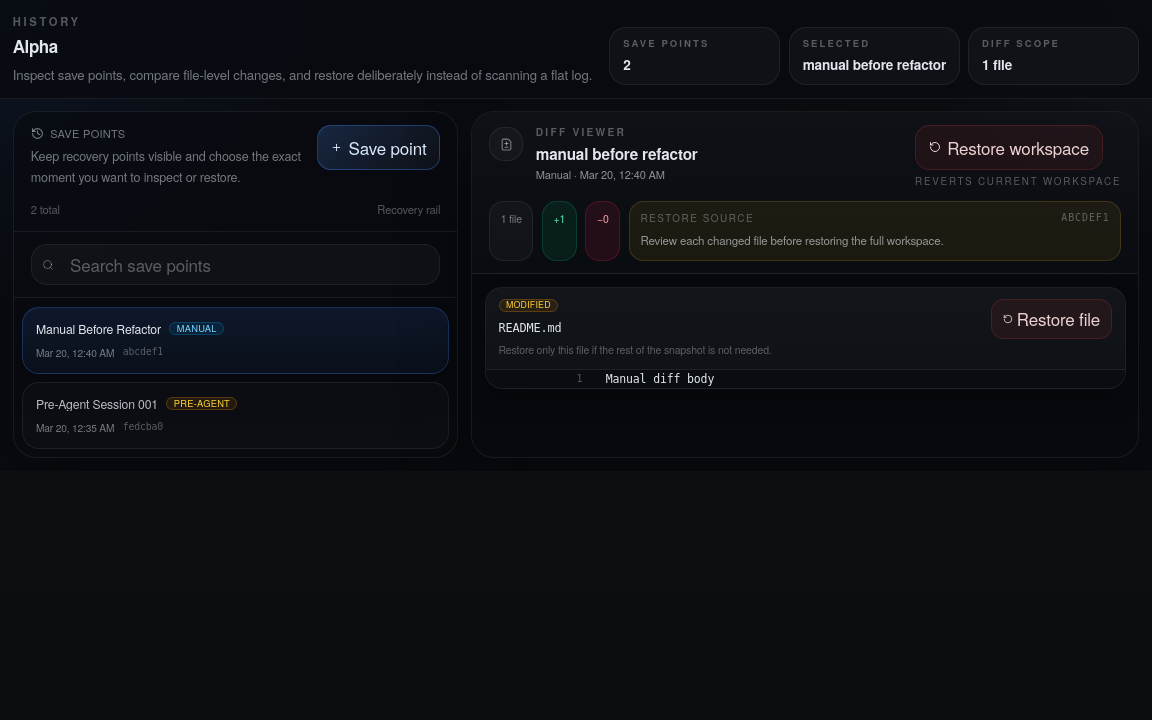
Test: HistoryTab › creates manual save points and gates workspace and file restore behind confirmations
This screenshot has width=1152, height=720.
Expected: the text "Manual diff body" is shown, [593,370,1124,388]
Step 1. Click the button with aria-label "Create manual save point" → (379, 147), box [317,125,440,170]
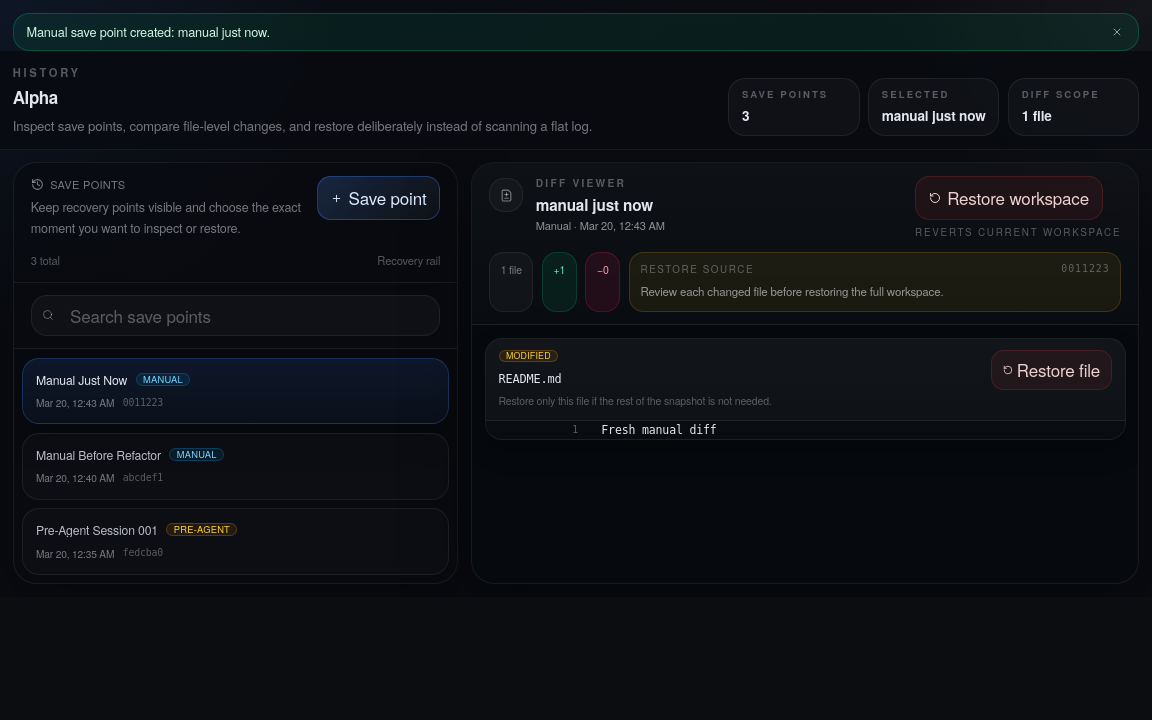
Expected: the text "Manual save point created: manual just now." is shown, [26,22,270,41]
Expected: the text "Fresh manual diff" is shown, [589,420,1124,439]
Step 2. Click the button "Restore workspace" → (1009, 198), box [915,176,1103,220]
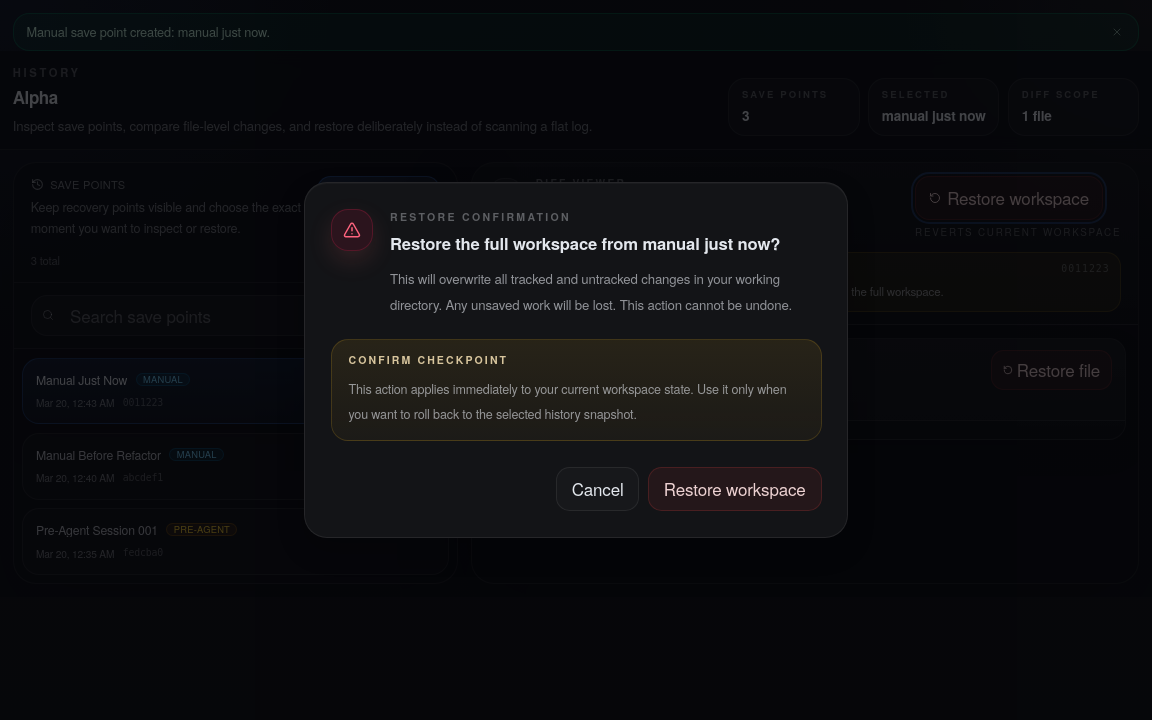
Step 3. Click the button "Restore workspace" → (735, 489), box [648,467,822,512]
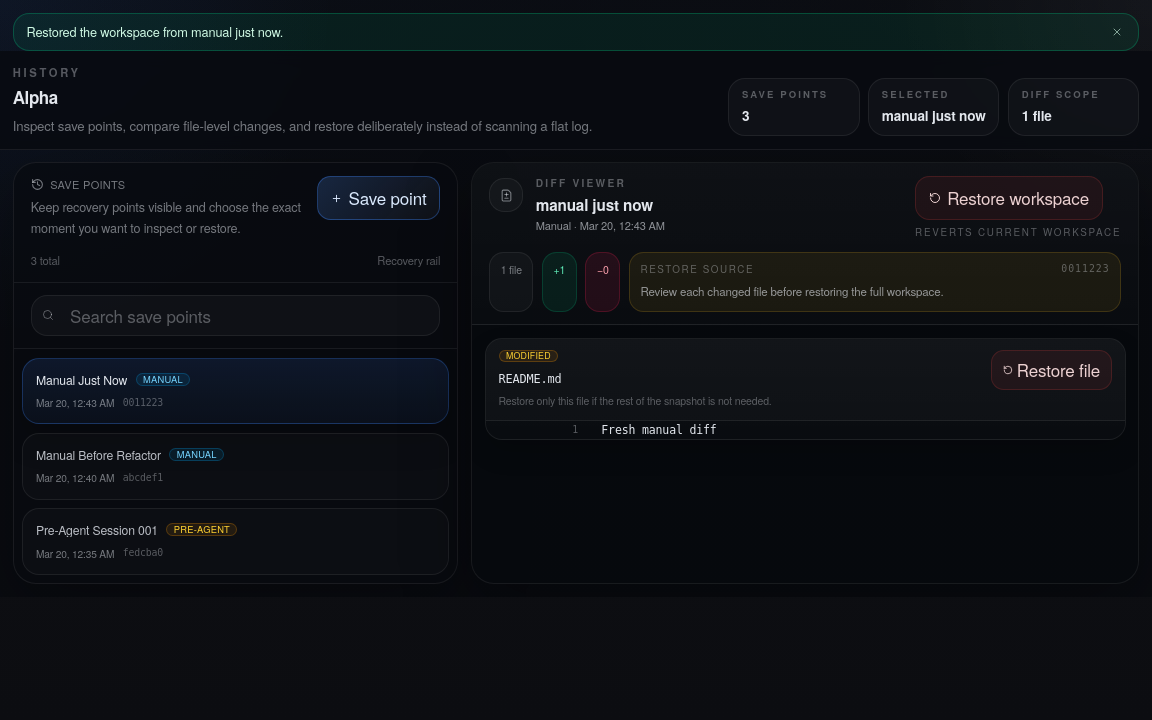
Expected: the text "Restored the workspace from manual just now." is shown, [26,22,283,41]
Step 4. Click the button "Restore file" → (1051, 370), box [991,350,1112,390]
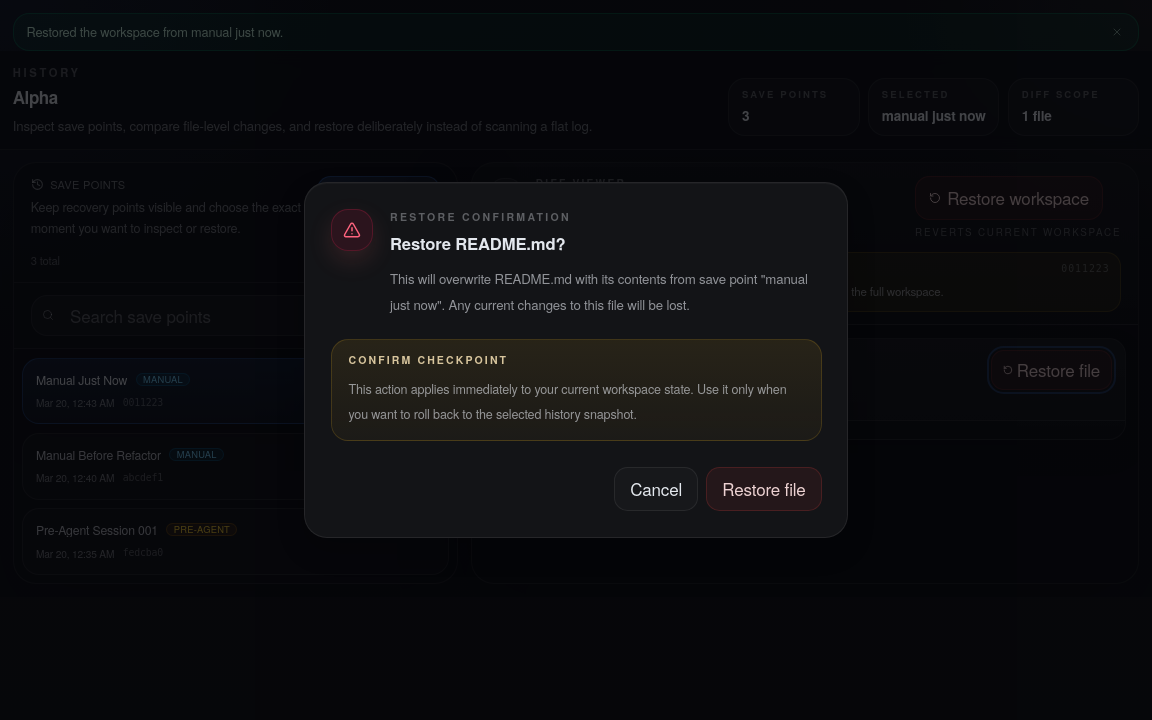
Step 5. Click the button "Restore file" → (764, 489), box [706,467,822,512]
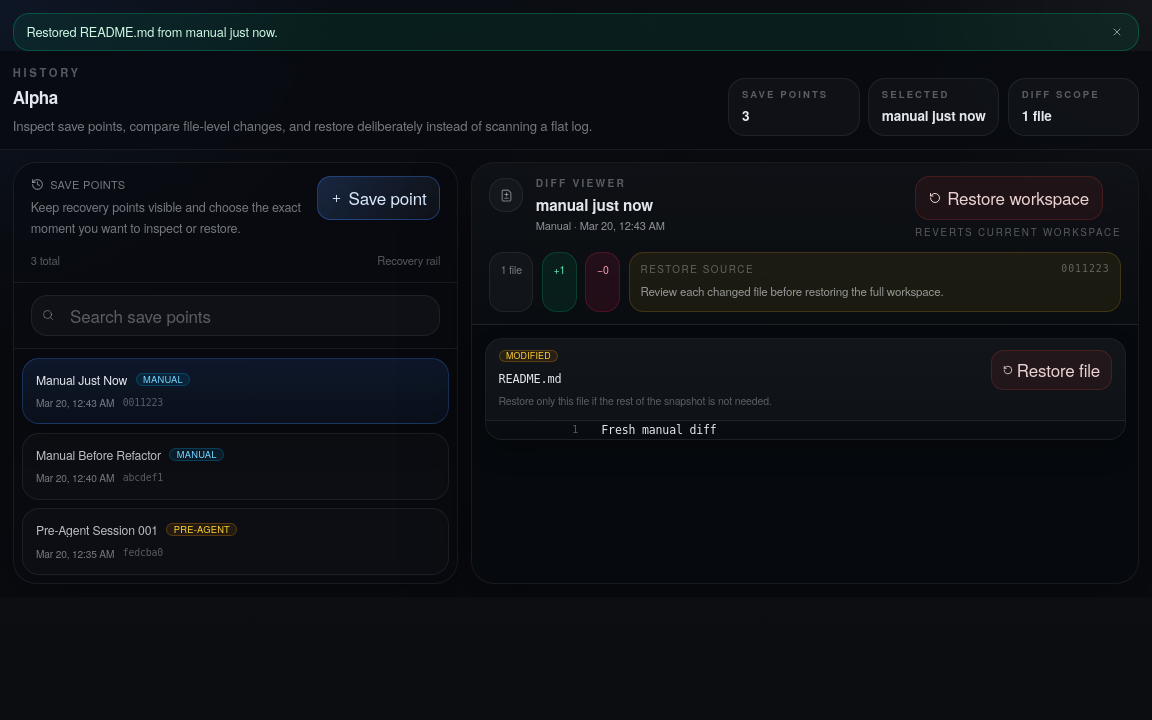
Expected: the text "Restored README.md from manual just now." is shown, [26,22,278,41]
